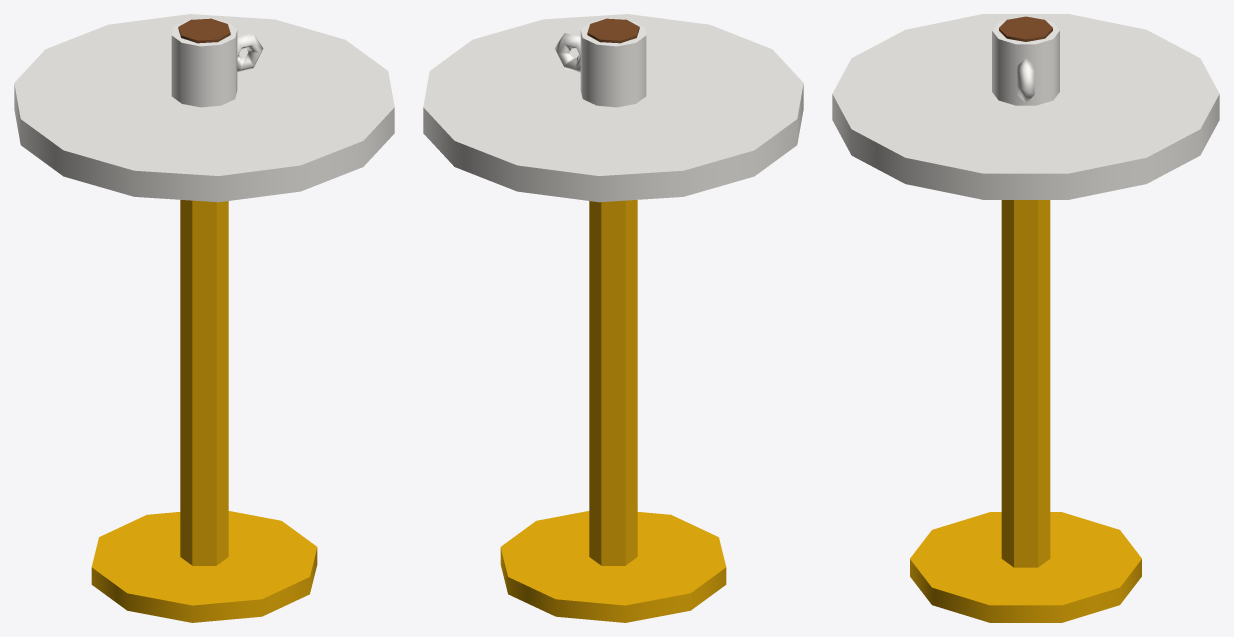
File: station_intake_ausstattung_3_0.glb
The picture shows the model from 3 angles, left to right: view 1: azimuth 30°, elevation 25°; view 2: azimuth 150°, elevation 25°; view 3: azimuth 270°, elevation 25°; orthographic projection.
Parts seen in each view (by area): view 1: station_intake_ausstattung_3_0; view 2: station_intake_ausstattung_3_0; view 3: station_intake_ausstattung_3_0.
Part boxes in pixels (x1,y1,x2,y2): station_intake_ausstattung_3_0: [14, 14, 394, 622]; station_intake_ausstattung_3_0: [423, 14, 803, 622]; station_intake_ausstattung_3_0: [832, 14, 1219, 622].
Bounding box in the file's own units: 0.39 × 0.625 × 0.4.
